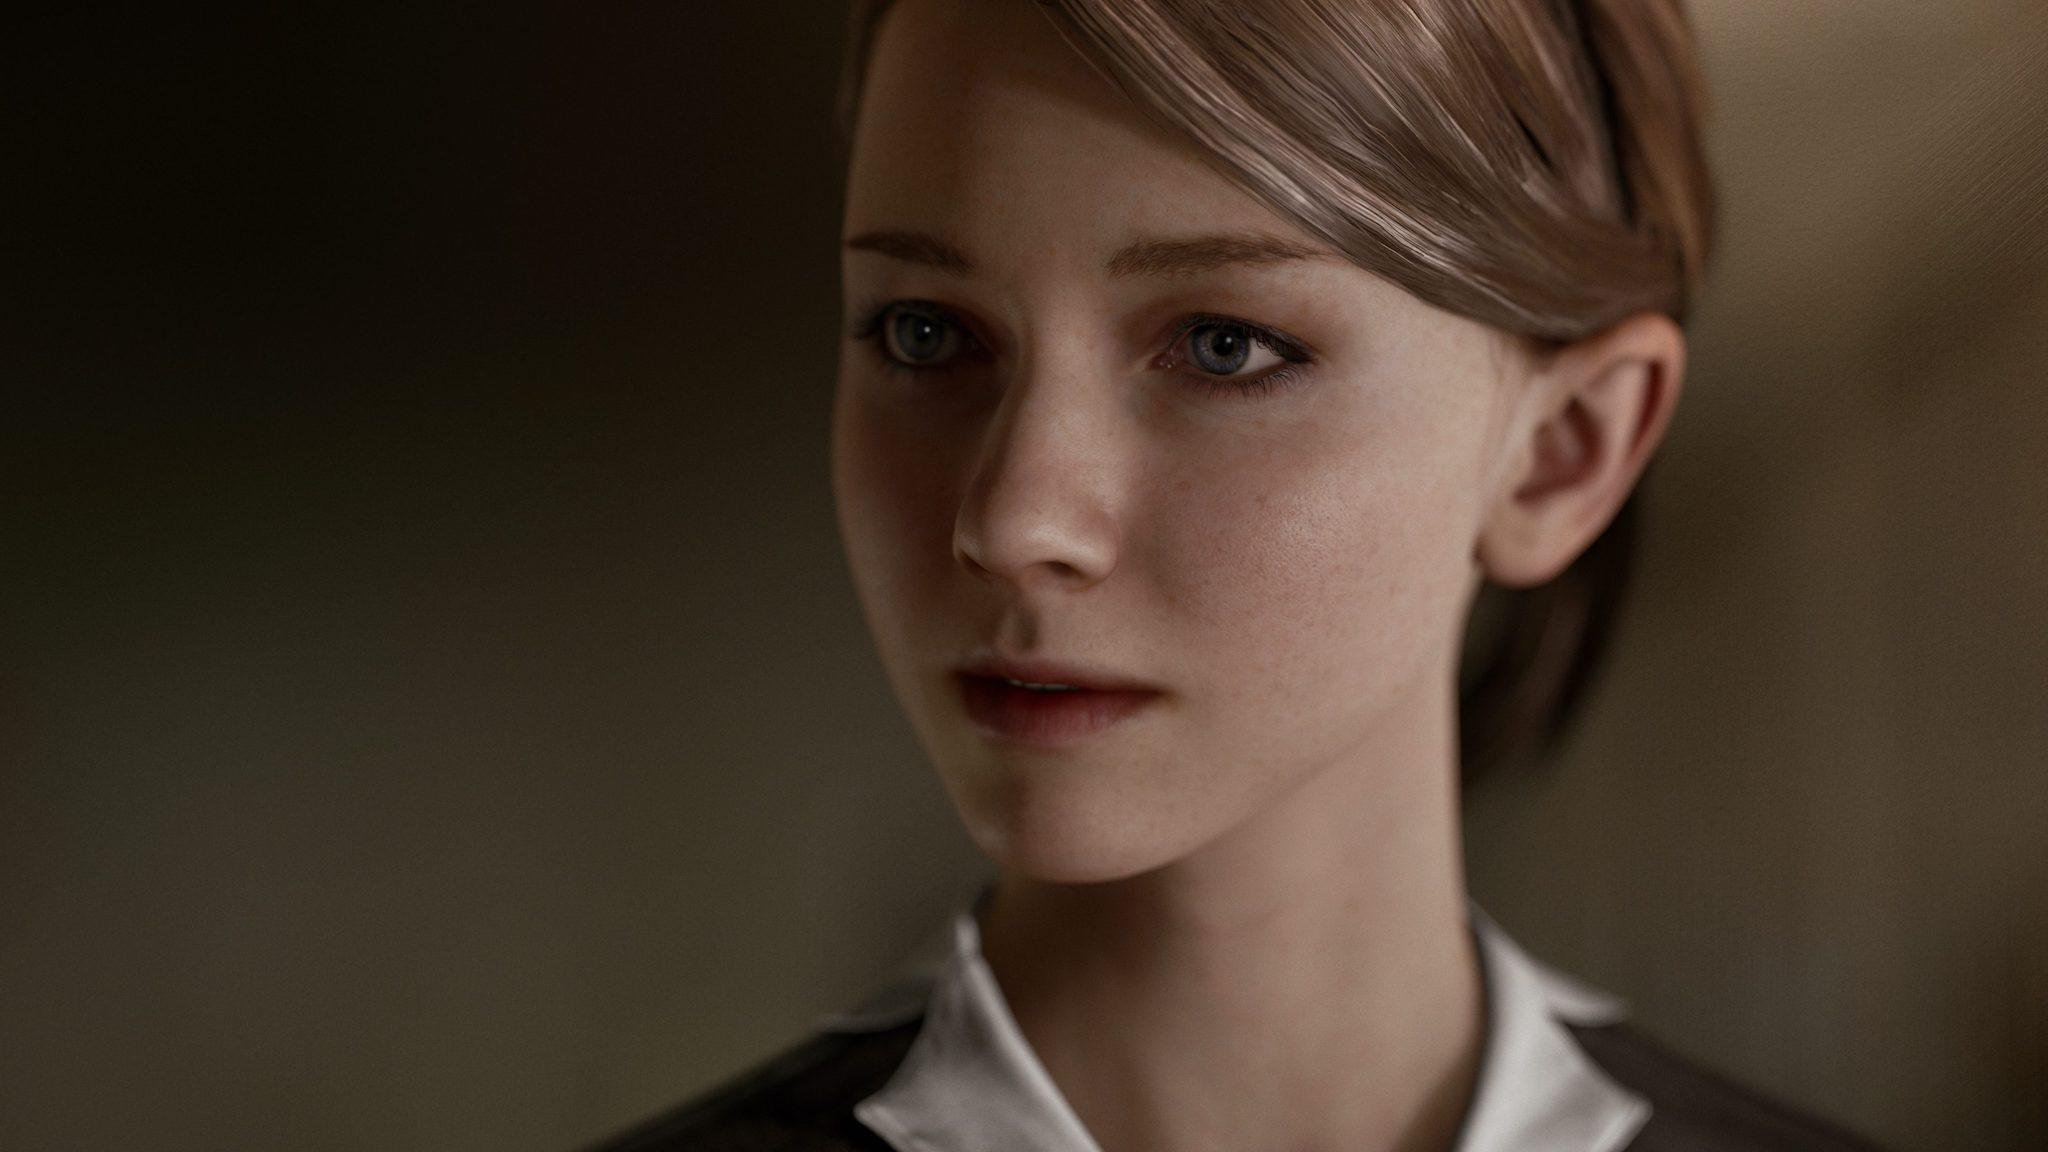noMask: (806, 30, 1708, 916)
